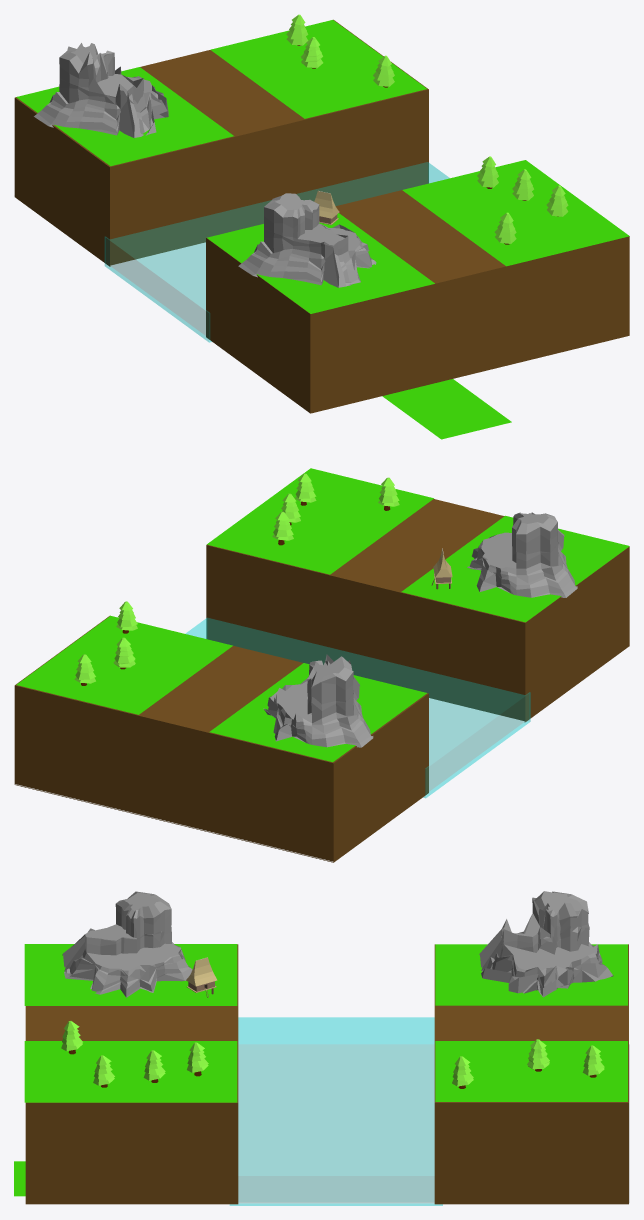
Rendered from island.gltf.
3 renders of one model, top to bottom at view 1: azimuth 30°, elevation 25°; view 2: azimuth 150°, elevation 25°; view 3: azimuth 270°, elevation 25°, orthographic.
Parts seen in each view (by area): view 1: Cube.001, Cube, Plane.001, Plane.002, Cube.002, Plane.005, Plane.003, Plane; view 2: Cube, Cube.001, Plane.001, Plane.002, Cube.002, Plane.005, Plane.003, Plane; view 3: Cube.002, Plane, Cube.001, Cube, Plane.001, Plane.002, Plane.005, Plane.003, Cube.003.
Part boxes in pixels (bbox=[...]): Cube.001: bbox=[206, 190, 629, 413]; Cube: bbox=[14, 19, 428, 266]; Plane.001: bbox=[207, 160, 629, 439]; Plane.002: bbox=[16, 20, 426, 166]; Cube.002: bbox=[105, 162, 449, 342]; Plane.005: bbox=[34, 43, 168, 137]; Plane.003: bbox=[238, 193, 376, 287]; Plane: bbox=[14, 195, 205, 335]; Cube: bbox=[14, 616, 428, 862]; Cube.001: bbox=[206, 499, 629, 722]; Plane.001: bbox=[207, 468, 629, 622]; Plane.002: bbox=[16, 615, 426, 762]; Cube.002: bbox=[185, 618, 530, 797]; Plane.005: bbox=[263, 654, 373, 747]; Plane.003: bbox=[467, 512, 577, 597]; Plane: bbox=[14, 698, 524, 861]; Cube.002: bbox=[230, 1017, 442, 1205]; Plane: bbox=[238, 1044, 629, 1203]; Cube.001: bbox=[25, 944, 238, 1204]; Cube: bbox=[434, 944, 628, 1204]; Plane.001: bbox=[14, 944, 237, 1196]; Plane.002: bbox=[435, 944, 627, 1101]; Plane.005: bbox=[479, 891, 613, 997]; Plane.003: bbox=[62, 891, 192, 997]; Cube.003: bbox=[186, 957, 217, 997].
Size of the model in its own units: 17.46 by 11.36 by 28.24.
